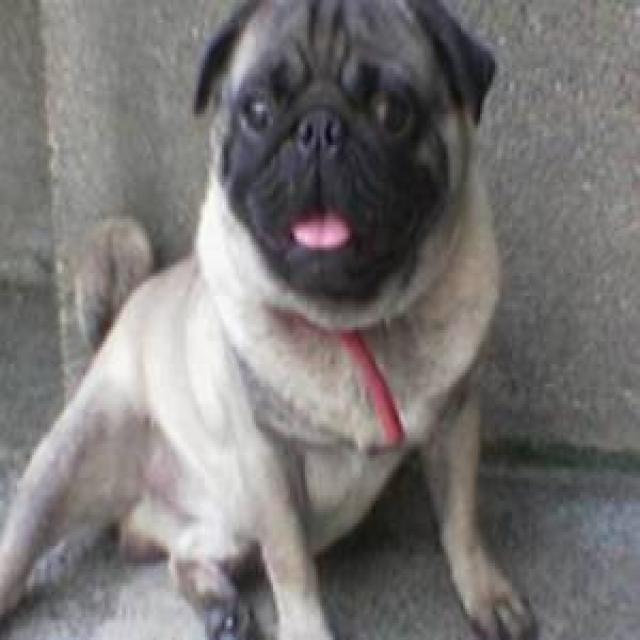dog-pug: (2, 3, 535, 634)
